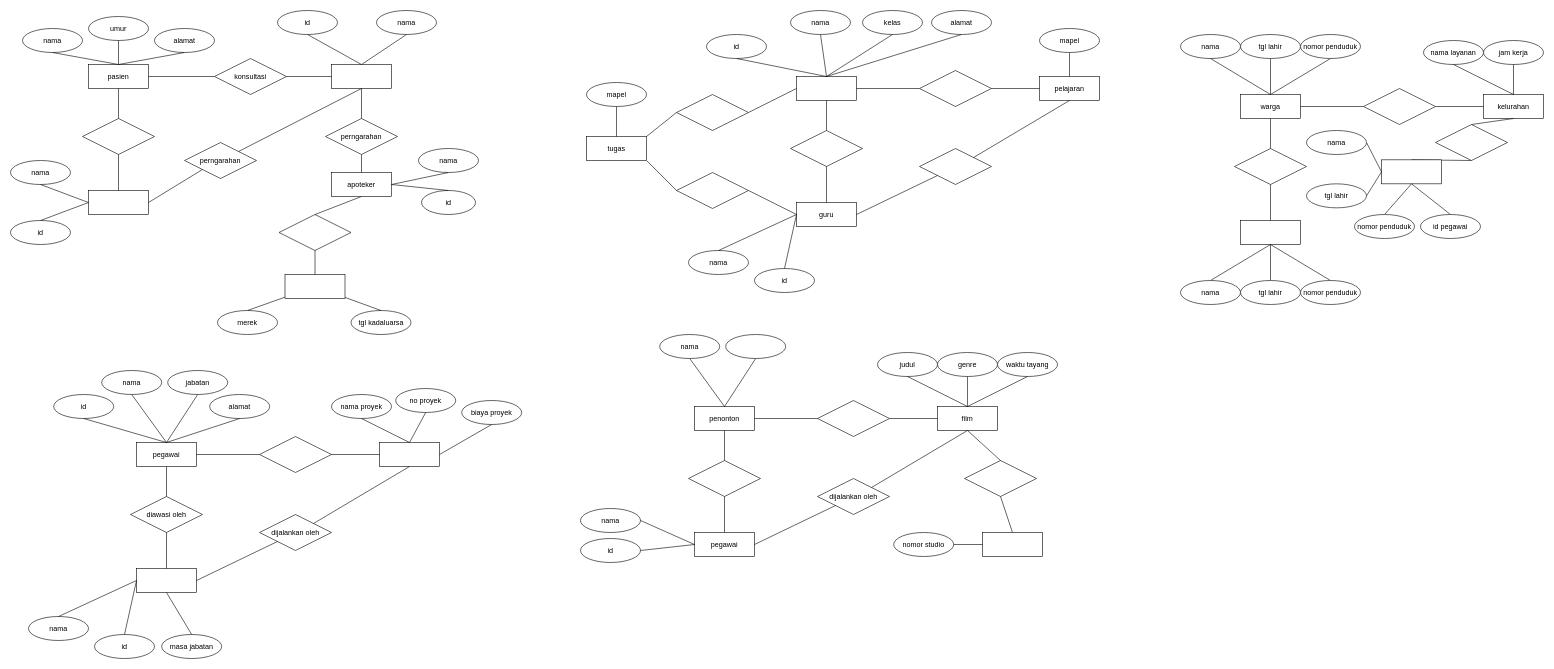
Image size: 1554x669. Some labels were removed from this diagram. The shapes that lost their labels are listed below. From the top down, each one's box as (x1, y1, x2, y2) in pixels, then its label:
(331, 64, 392, 88): administrasi
(796, 76, 856, 100): murid
(919, 70, 992, 106): mempelajarai
(676, 94, 748, 130): diberikan
(1363, 88, 1436, 124): mengurus data
(82, 118, 154, 154): praktik
(790, 130, 862, 166): diajarkan
(1435, 124, 1508, 160): bekerja di
(919, 148, 992, 184): mengajari
(1234, 148, 1306, 184): berinteraksi
(1381, 159, 1442, 184): asn
(88, 190, 148, 214): dokter
(676, 172, 748, 208): membuat
(278, 214, 351, 250): peracikan
(1240, 220, 1300, 244): tetangga
(284, 274, 345, 298): obat
(725, 334, 786, 358): no kursi
(817, 400, 890, 436): menonton
(259, 436, 332, 472): bekerja
(379, 442, 440, 466): proyek
(688, 460, 760, 496): memesan tiket
(964, 460, 1036, 496): tayang di
(982, 532, 1042, 556): studio
(136, 568, 196, 592): pengawas
